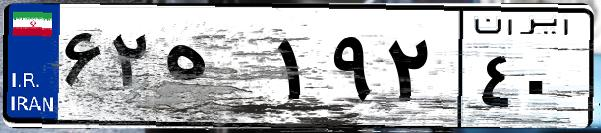0: (525, 38, 570, 115)
1: (270, 28, 330, 110)
2: (385, 28, 445, 110), (110, 28, 158, 98)
4: (475, 38, 525, 113)
6: (57, 26, 110, 100)
9: (330, 28, 385, 110)
ه: (158, 20, 270, 120)
